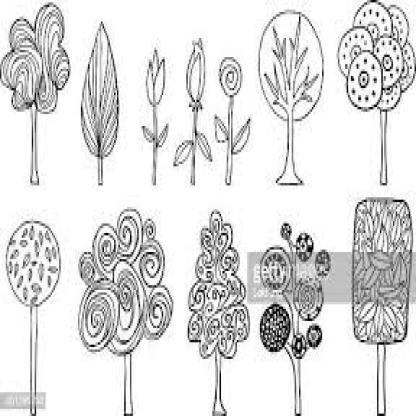branch_sharp: (264, 17, 319, 110)
crown_cloud: (0, 3, 72, 114)
crown_mushroom: (255, 10, 327, 122), (5, 219, 61, 306)
trunk_straight: (30, 125, 41, 166), (286, 126, 297, 161)
